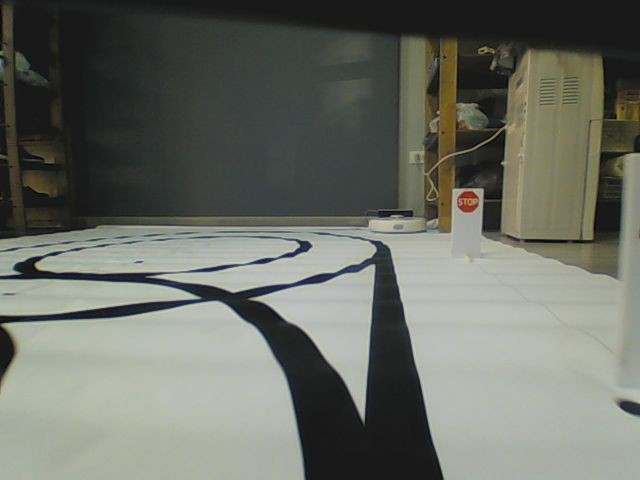Stop: (456, 190, 480, 213)
